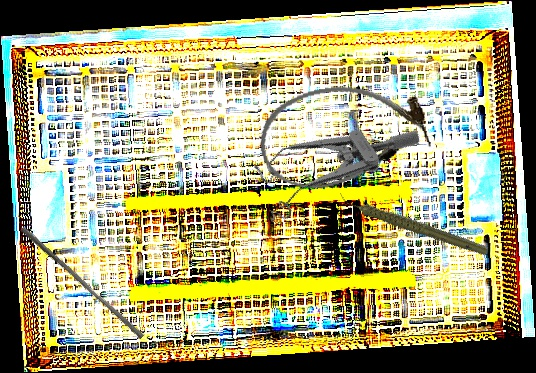Cannula: (251, 72, 436, 198)
Handpiece: (336, 162, 492, 285)
Pusher: (16, 226, 148, 340)
Speculum: (239, 79, 423, 237)
